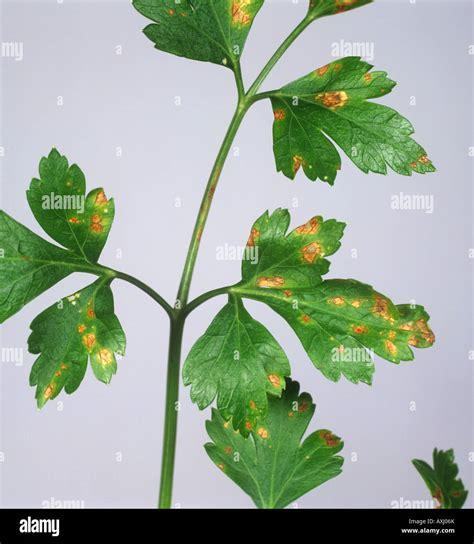black-spot: (305, 88, 352, 119), (73, 316, 102, 350), (367, 299, 391, 324)
